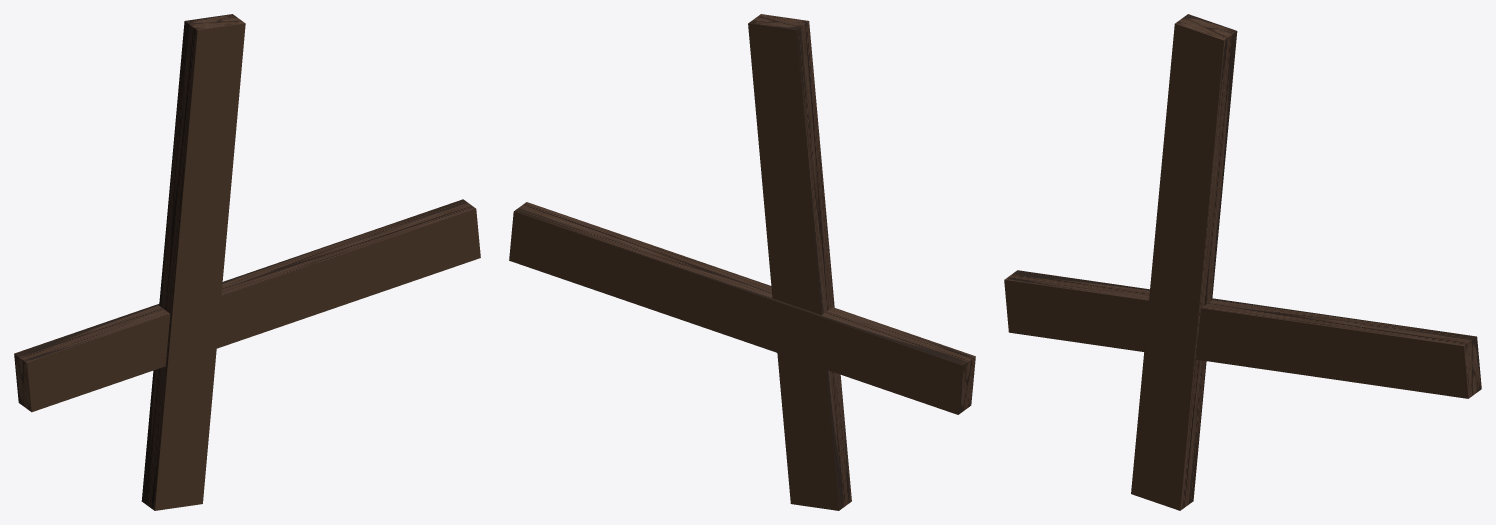
The model's file is pz_g018_fencing_damaged_01_168.obj.
The picture shows the model from 3 angles, left to right: view 1: azimuth 30°, elevation 25°; view 2: azimuth 150°, elevation 25°; view 3: azimuth 330°, elevation 25°; orthographic projection. The views are drawn at different scales.
Visible parts, largest first — view 1: pz_g018_fencing_damaged_01_168; view 2: pz_g018_fencing_damaged_01_168; view 3: pz_g018_fencing_damaged_01_168.
Boxes of the visible parts, x1=… form: pz_g018_fencing_damaged_01_168: x1=14, y1=14, x2=480, y2=510; pz_g018_fencing_damaged_01_168: x1=509, y1=14, x2=975, y2=510; pz_g018_fencing_damaged_01_168: x1=1004, y1=14, x2=1481, y2=510.
Size of the model in its own units: 0.8447 by 0.8447 by 0.048.
1 material, 1 textured.
